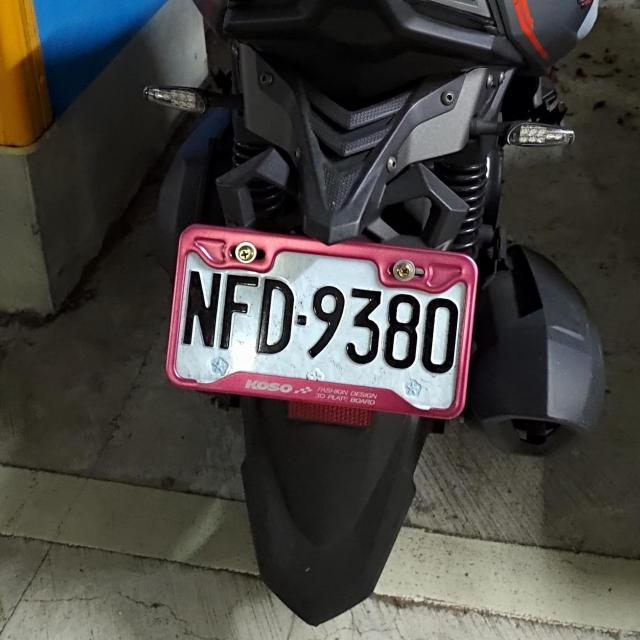W: (160, 221, 484, 418)
